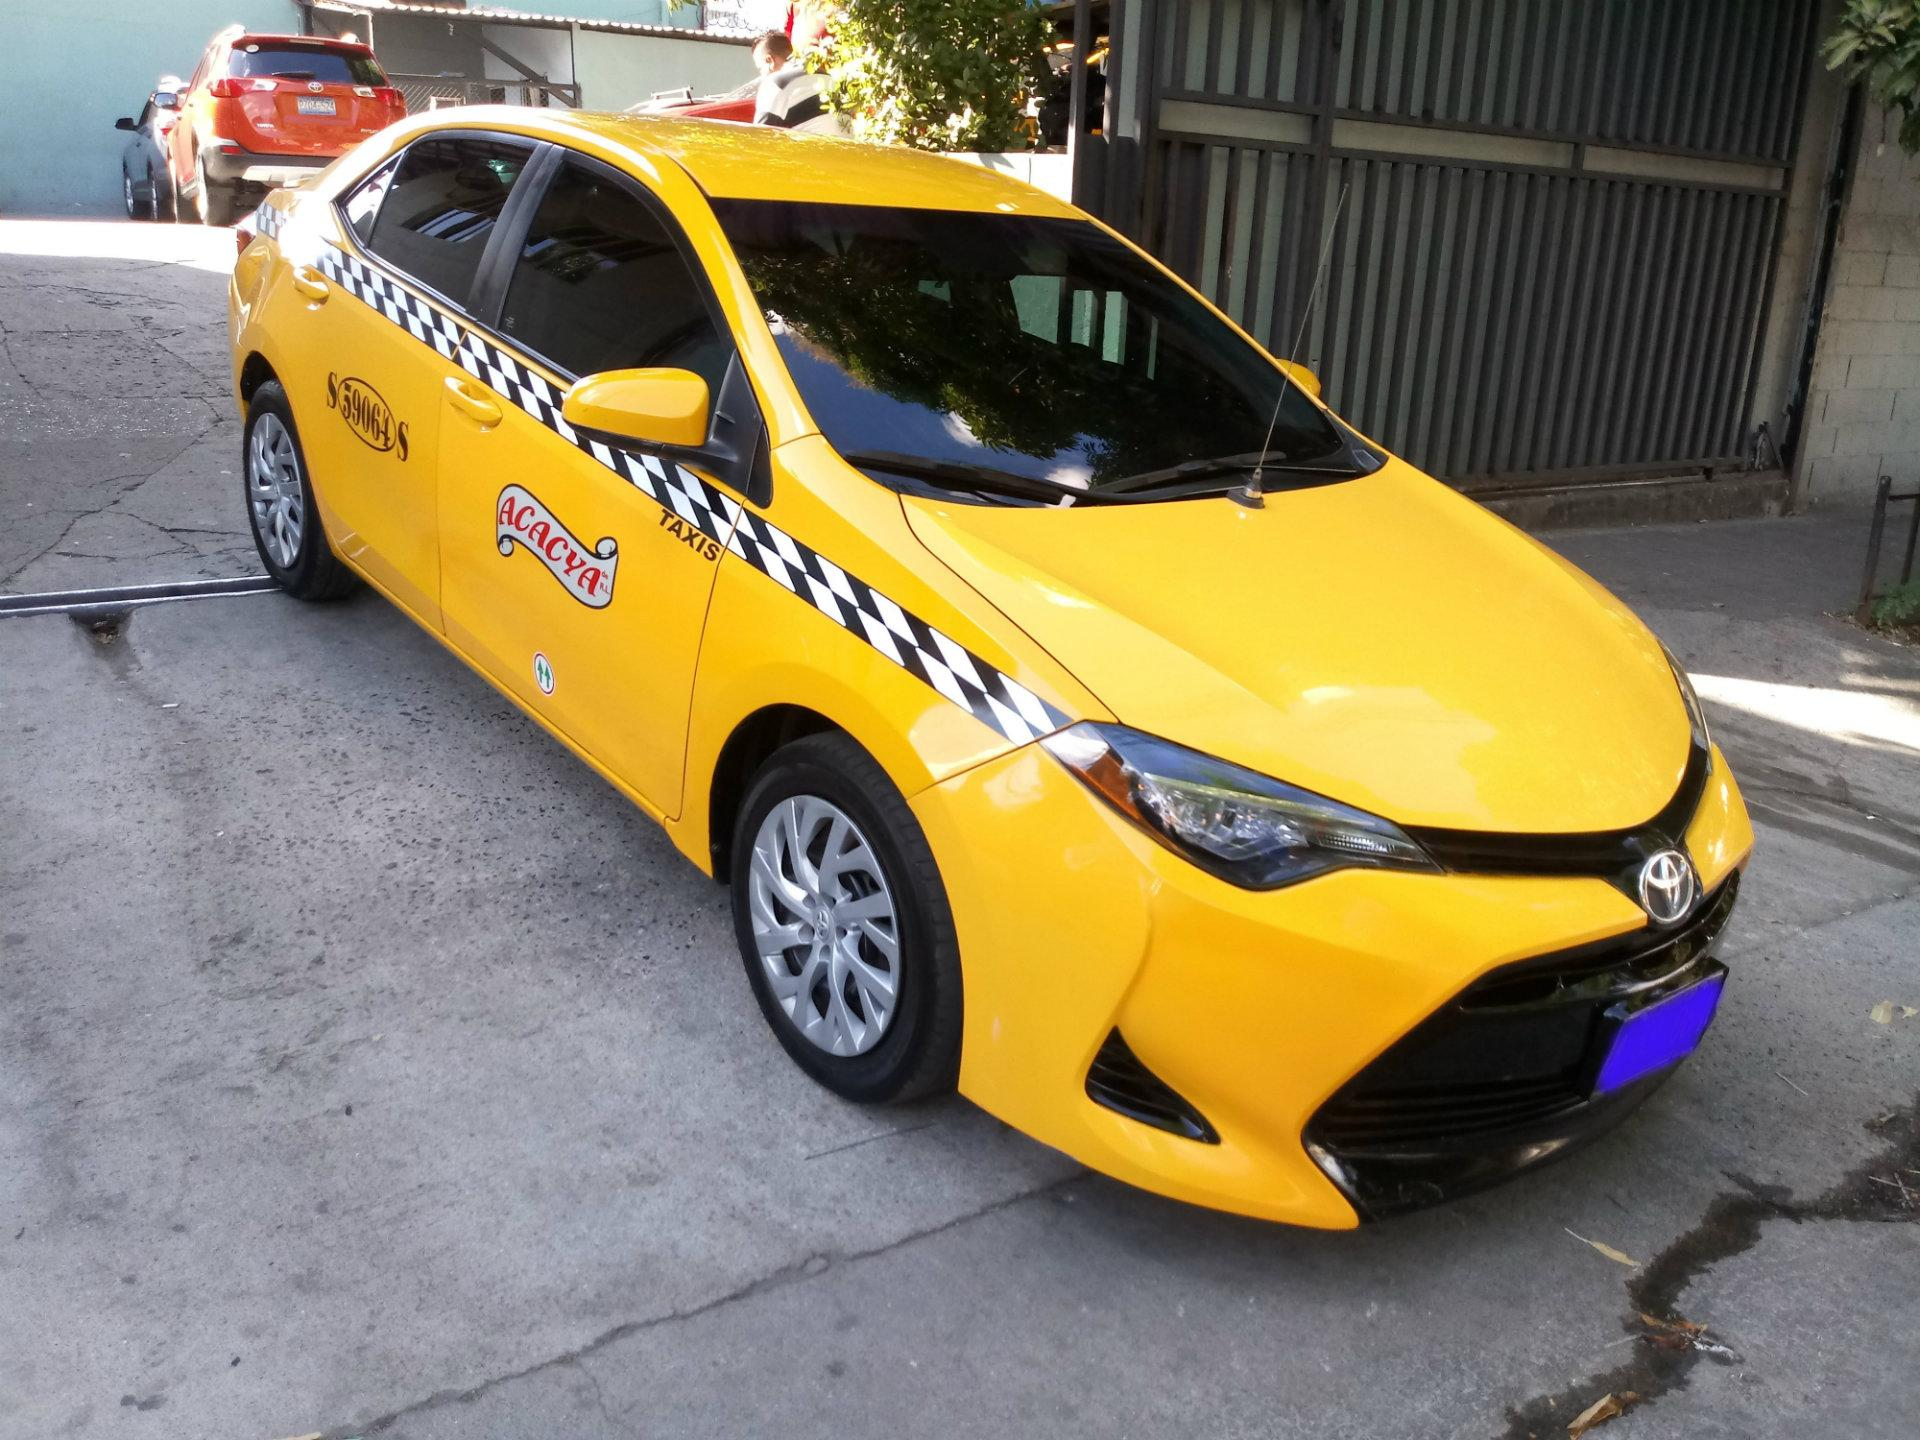taxi: (198, 113, 1748, 1249)
